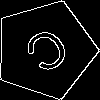C: (20, 24, 79, 84)
